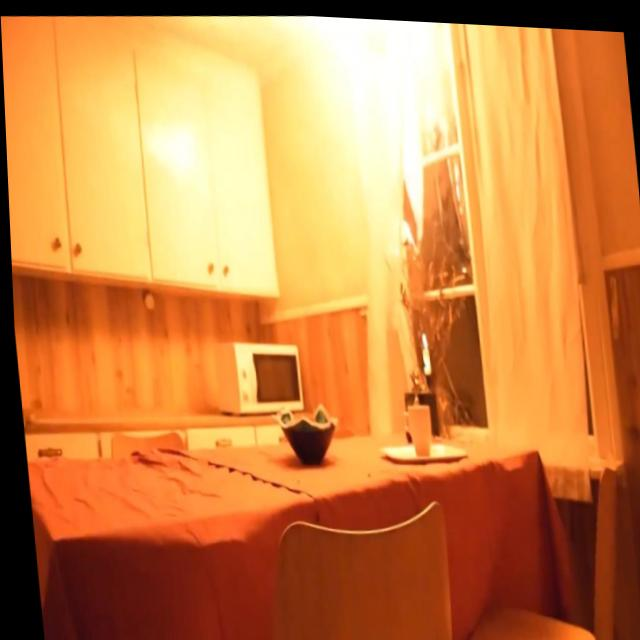fire: (280, 11, 463, 243), (417, 324, 424, 343)
